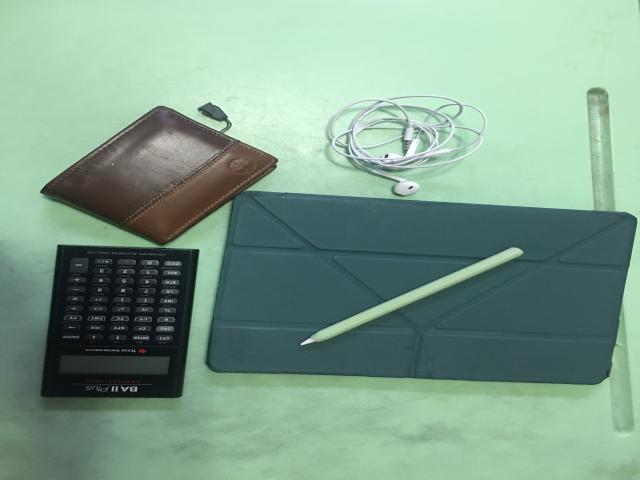Wallet: (42, 106, 277, 244)
wire: (330, 95, 487, 196)
